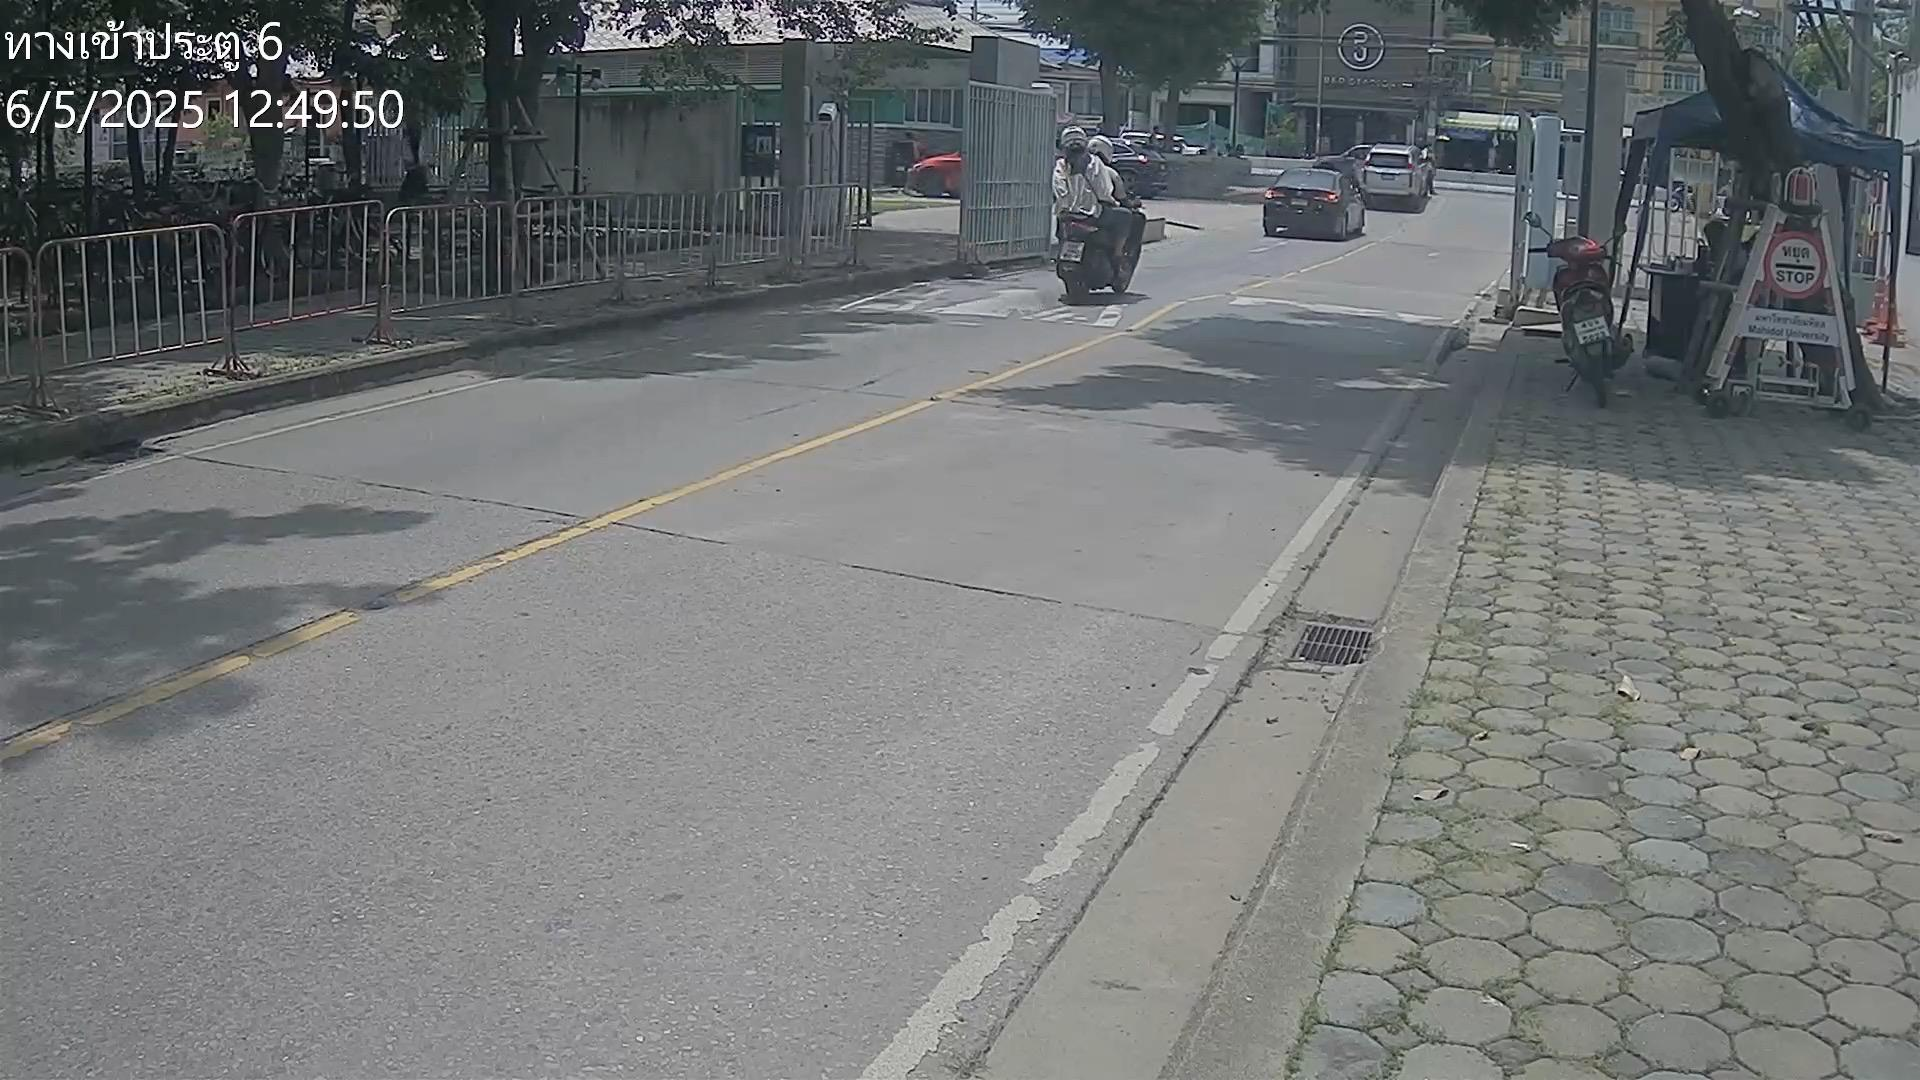With-Helmet: (1089, 133, 1116, 164), (1060, 125, 1088, 153)
